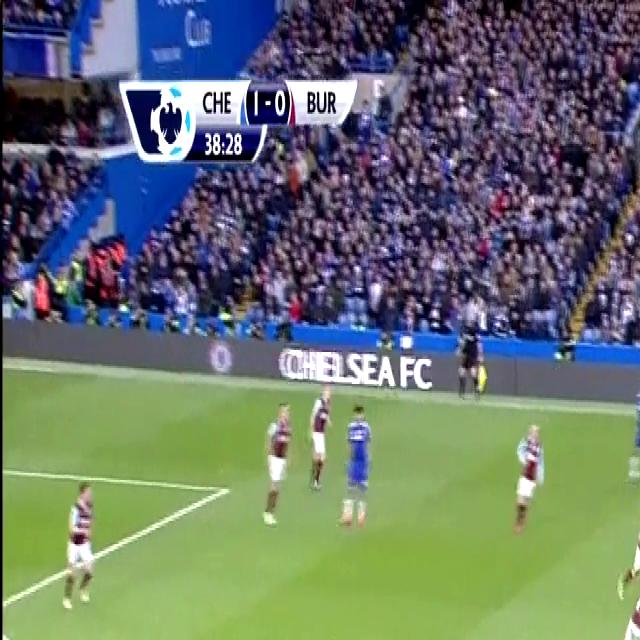referee: (450, 290, 493, 412)
soccer-player: (58, 470, 102, 621), (338, 390, 379, 536), (504, 410, 546, 545), (257, 396, 292, 534), (308, 373, 338, 498), (602, 562, 640, 640), (619, 491, 640, 601), (626, 366, 640, 494), (146, 638, 198, 640)
